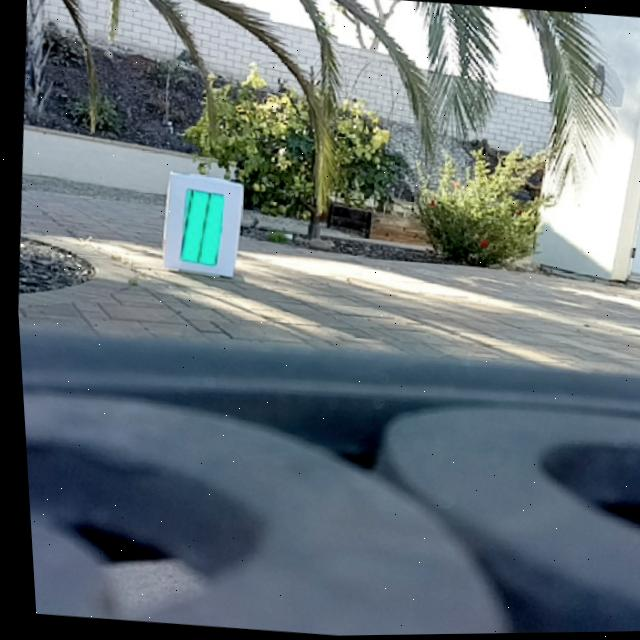led: (173, 187, 226, 268)
